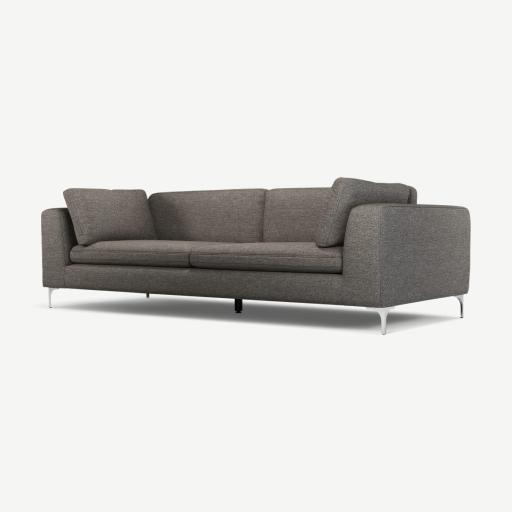back_cushion: (149, 178, 416, 246)
base: (45, 264, 380, 306)
left_arm: (341, 204, 470, 306)
legs: (367, 306, 394, 334), (49, 288, 58, 307), (456, 296, 463, 317), (234, 299, 242, 313)
right_arm: (42, 208, 76, 289)
seat_cushion: (71, 240, 343, 274)
two-seater: (0, 0, 511, 512)
